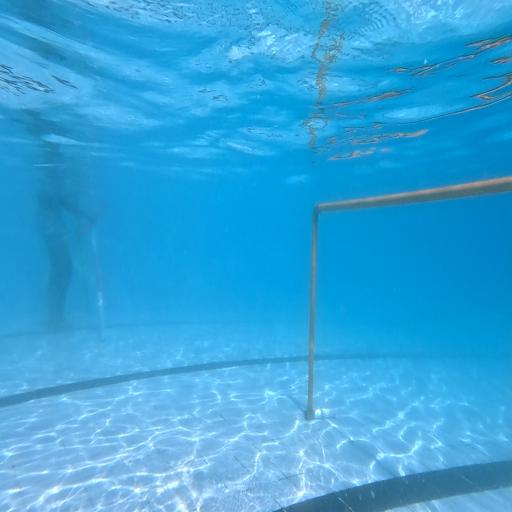gate: (304, 174, 512, 420)
